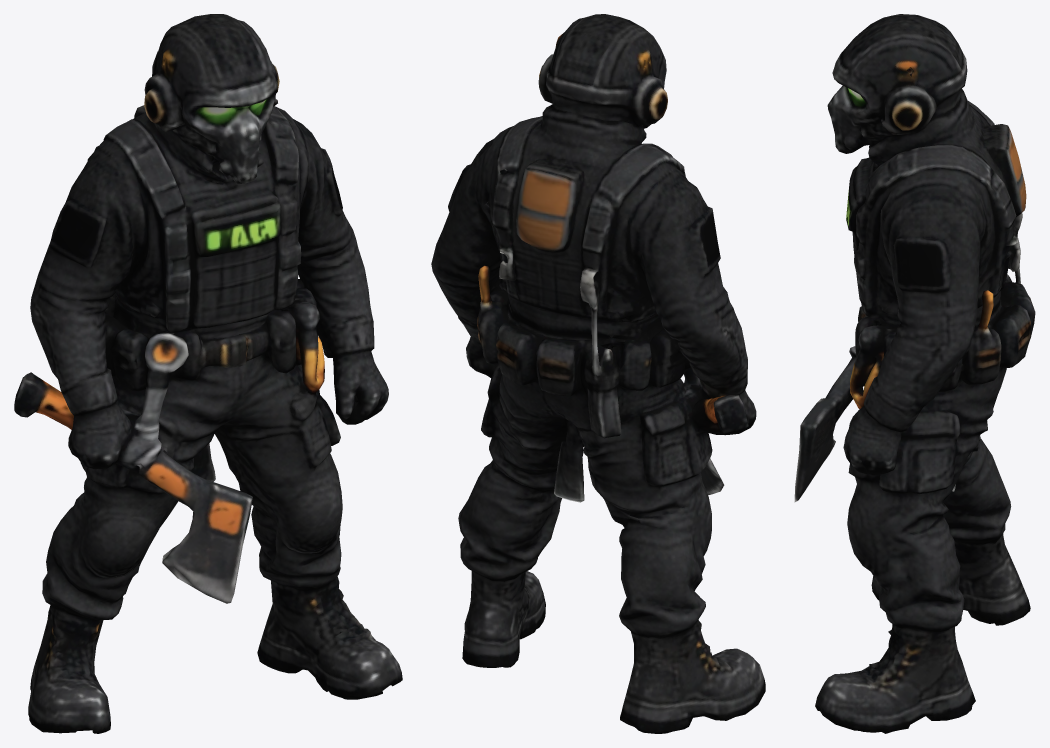
The model's file is engineer_l01.glb.
The picture shows the model from 3 angles, left to right: view 1: azimuth 30°, elevation 25°; view 2: azimuth 150°, elevation 25°; view 3: azimuth 270°, elevation 25°; orthographic projection. The views are drawn at different scales.
Visible parts, largest first — view 1: world; view 2: world; view 3: world.
Boxes of the visible parts, x1,y1,x2,y2 form: world: [14, 14, 402, 733]; world: [431, 14, 765, 733]; world: [794, 14, 1035, 733].
Size of the model in its own units: 0.5133 by 1 by 0.3403.
Materials: 1 (1 with a texture image).
